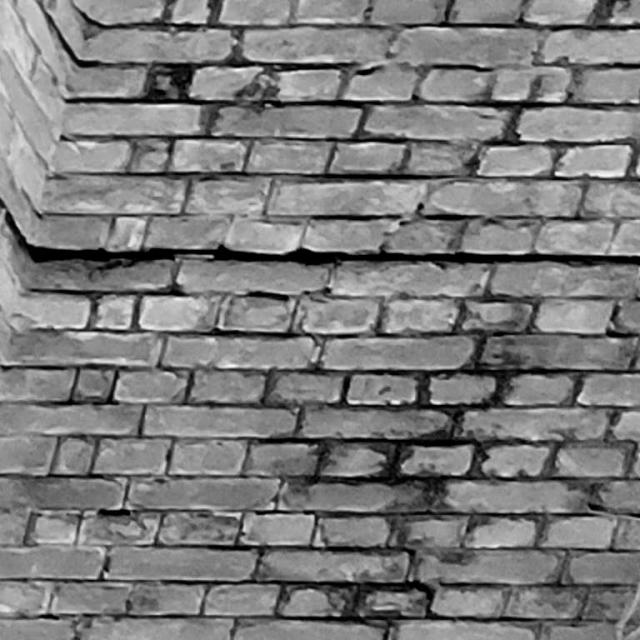crack: (1, 199, 640, 266)
